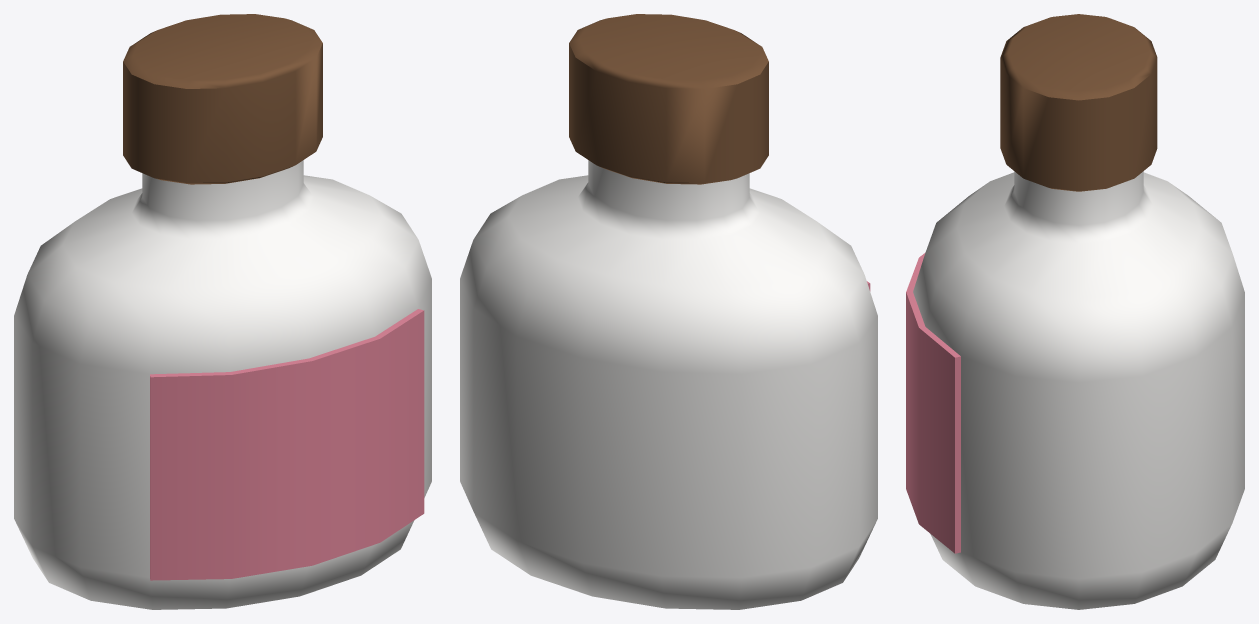
Rendered from Bottle_1.glb.
3 views of the same model, side by side, from view 1: azimuth 30°, elevation 25°; view 2: azimuth 150°, elevation 25°; view 3: azimuth 270°, elevation 25° (orthographic). The views are drawn at different scales.
Parts seen in each view (by area): view 1: Bottle_1; view 2: Bottle_1; view 3: Bottle_1.
Boxes of the visible parts, x1,y1,x2,y2 form: Bottle_1: (14, 14, 431, 609); Bottle_1: (460, 14, 877, 609); Bottle_1: (906, 14, 1244, 609).
Bounding box in the file's own units: 0.1697 × 0.2171 × 0.1356.
2 materials, 2 textured.
